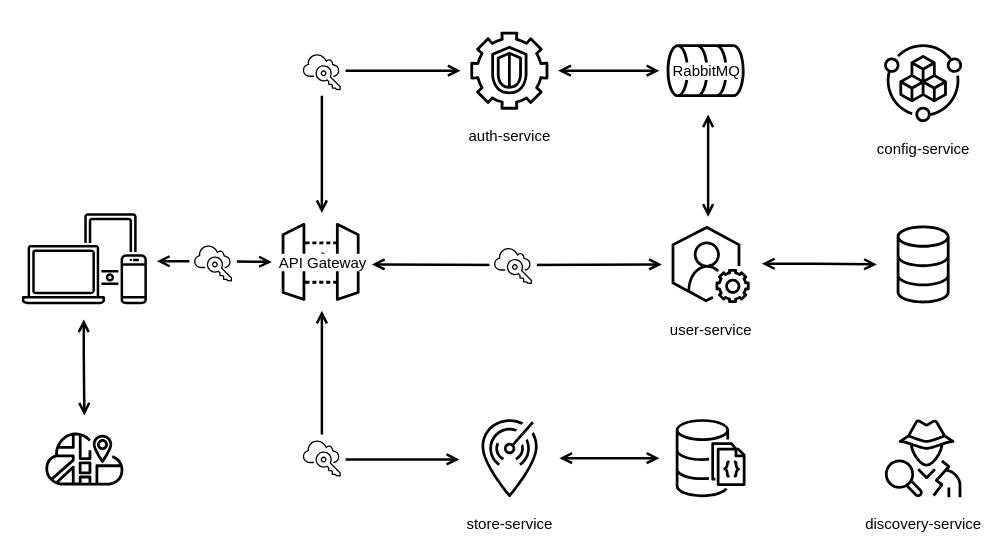
Image size: 1003x555. Some labels were removed from this diagram. Each missing label, with the centre of its shape:
Google Maps API: the point at 83,457
H2 Database: the point at 922,263
MongoDB Atlas: the point at 710,457
